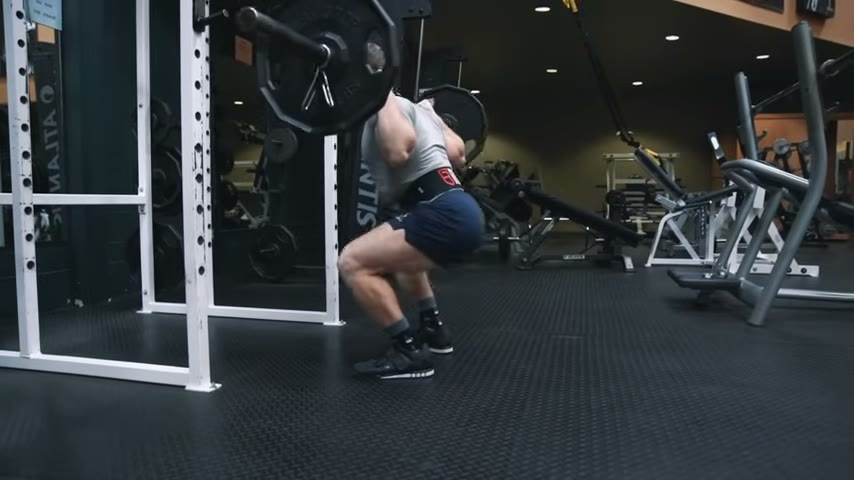barbell_plate_side: (234, 0, 290, 152)
